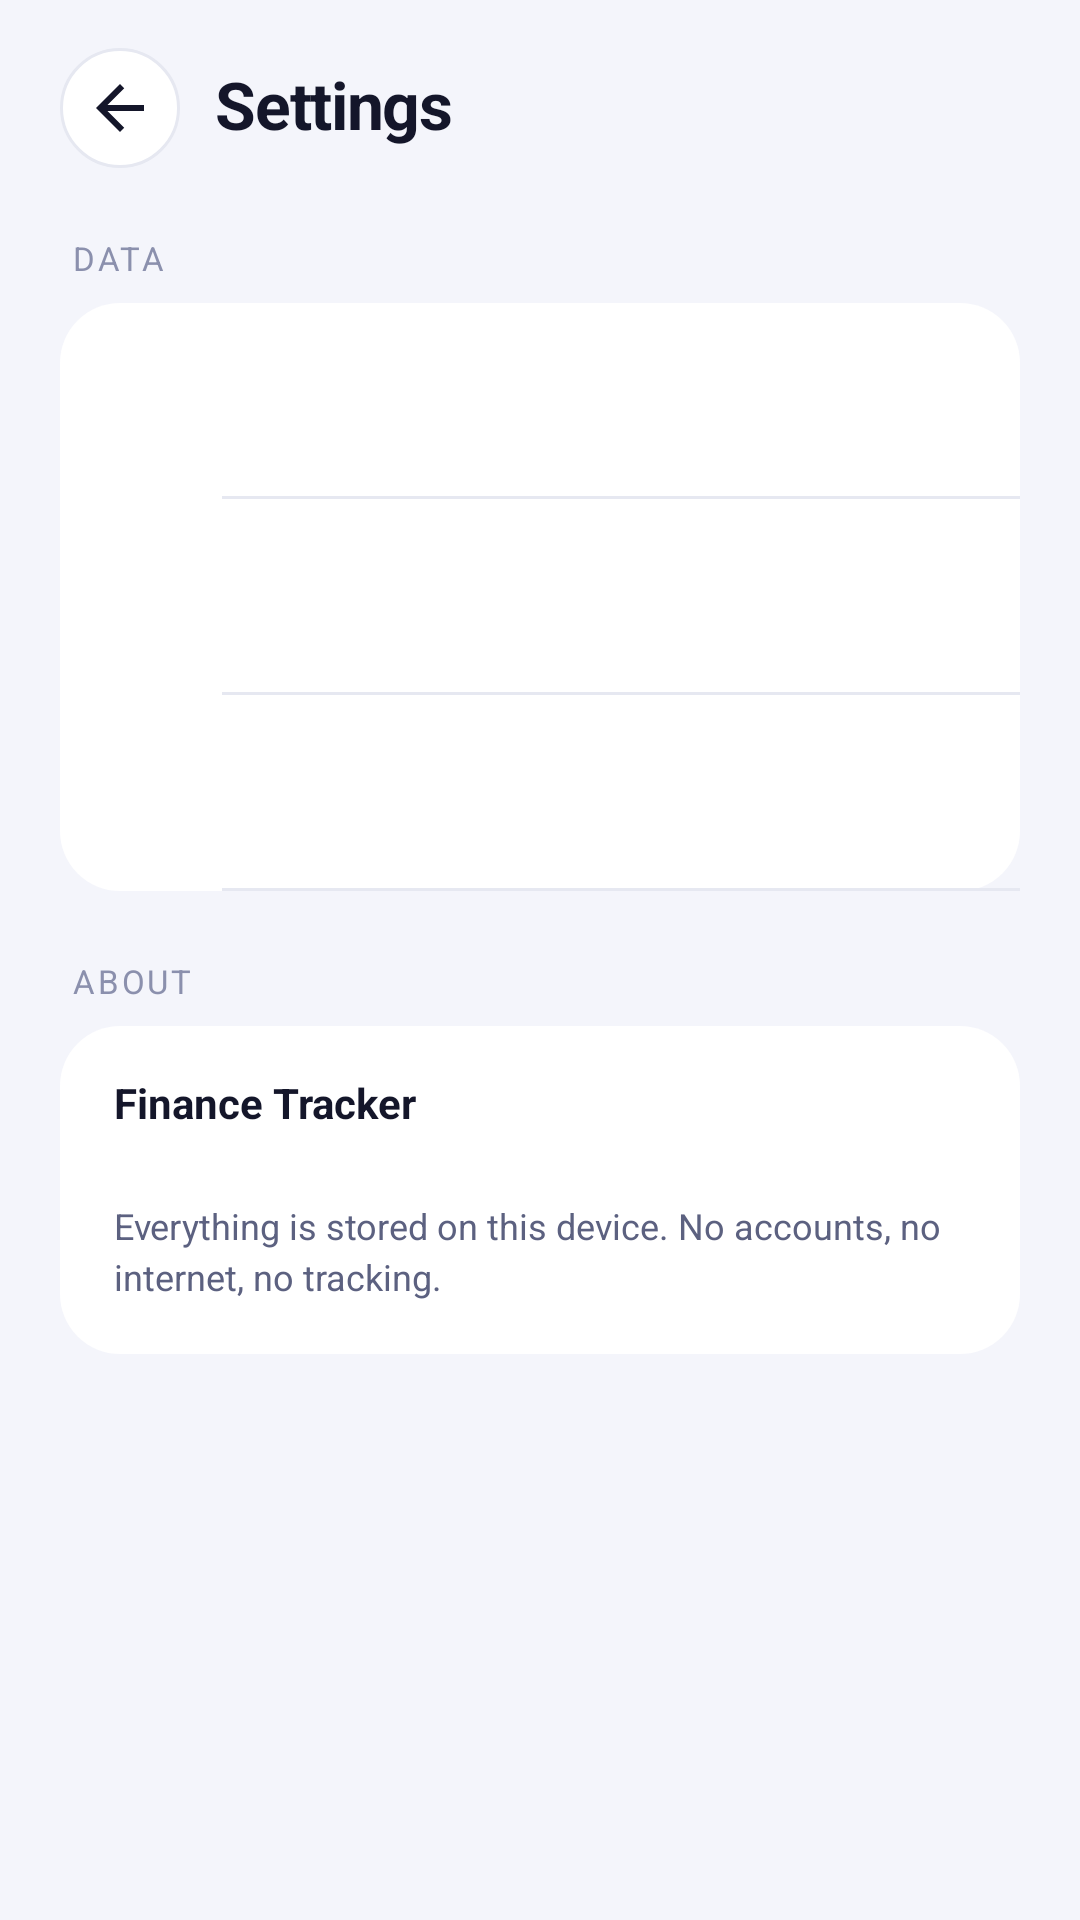

Point at icon controls on the screen. Image size 1080w x 1920h, points as (x=x, y=y).
Back: (x=120, y=108)
